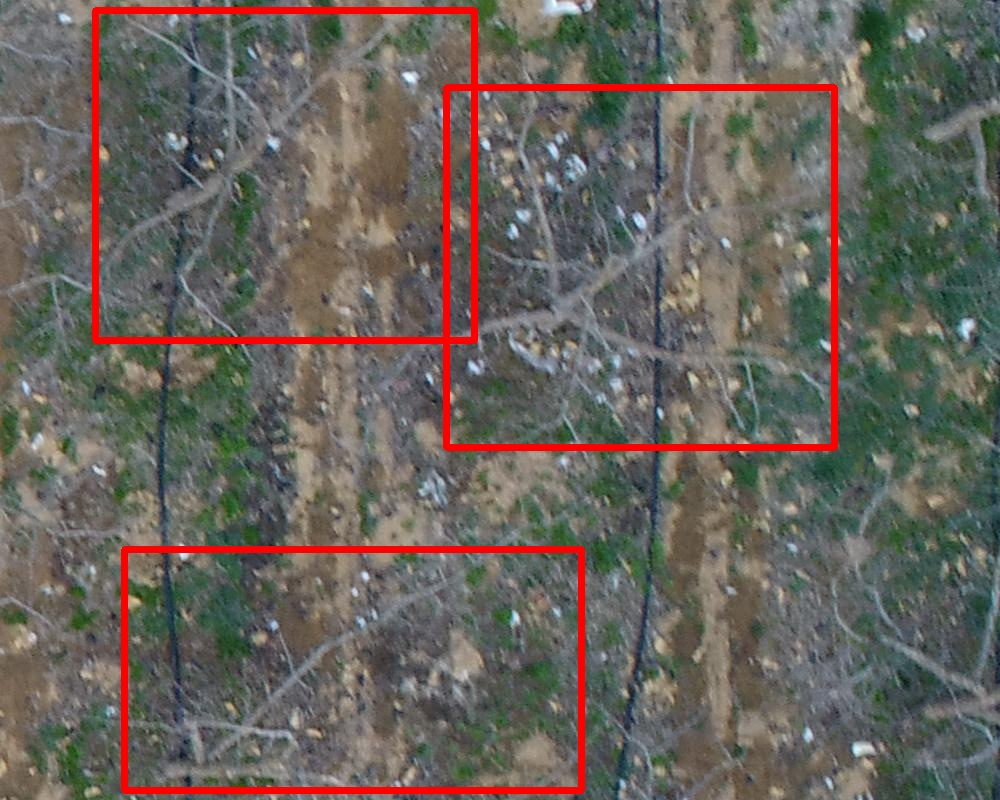apple: (446, 87, 834, 447), (95, 10, 474, 340), (124, 549, 581, 790)
